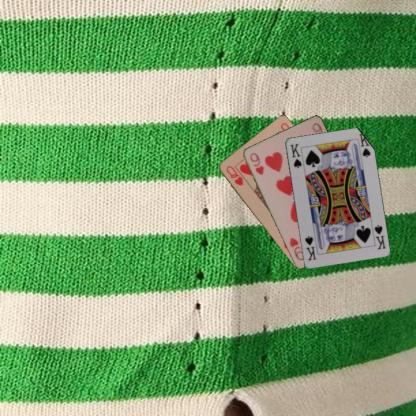9h: (247, 150, 265, 176)
Ks: (372, 222, 386, 251), (288, 141, 302, 169)
Qh: (224, 163, 244, 187)
